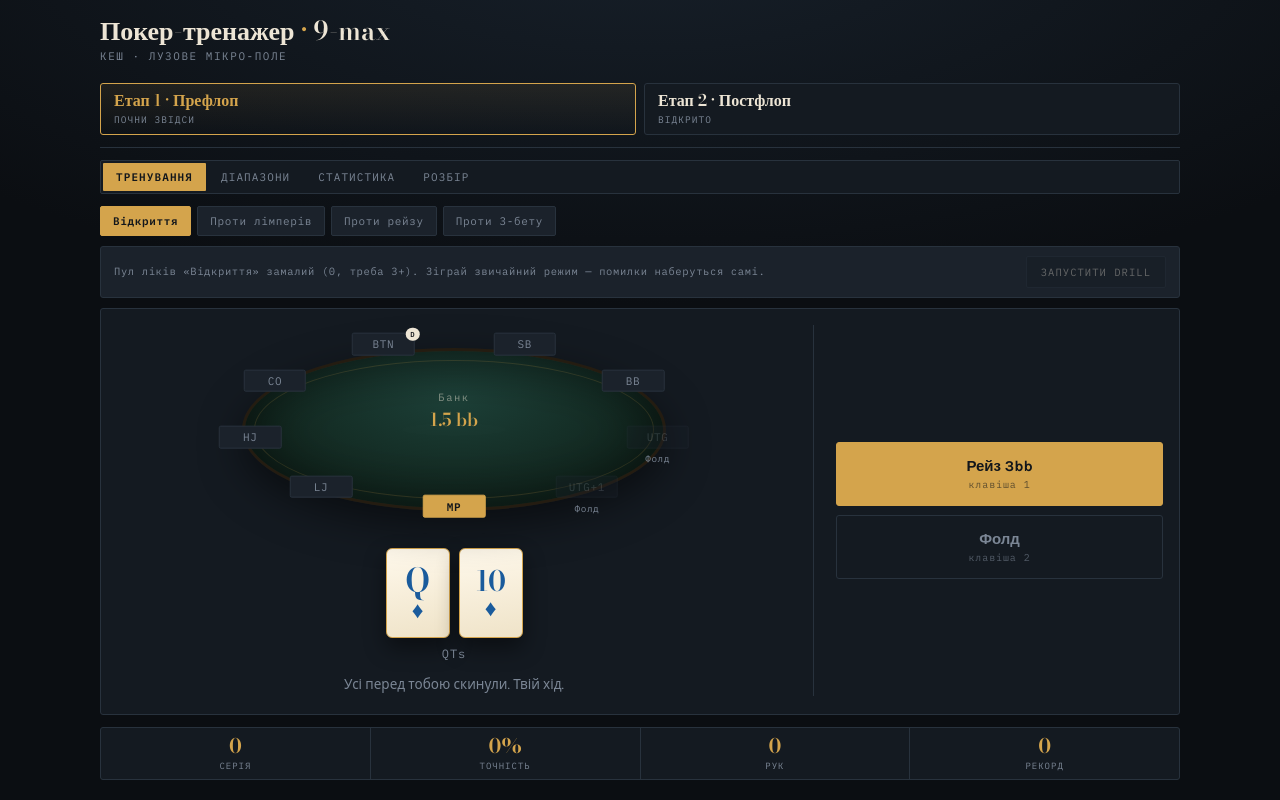
Test: App › вкладка «Схема рішень» показує таблиці замість тренування
Click the button "Етап 2 · Постфлоп відкрито": (725,100) [644,83,1180,135]
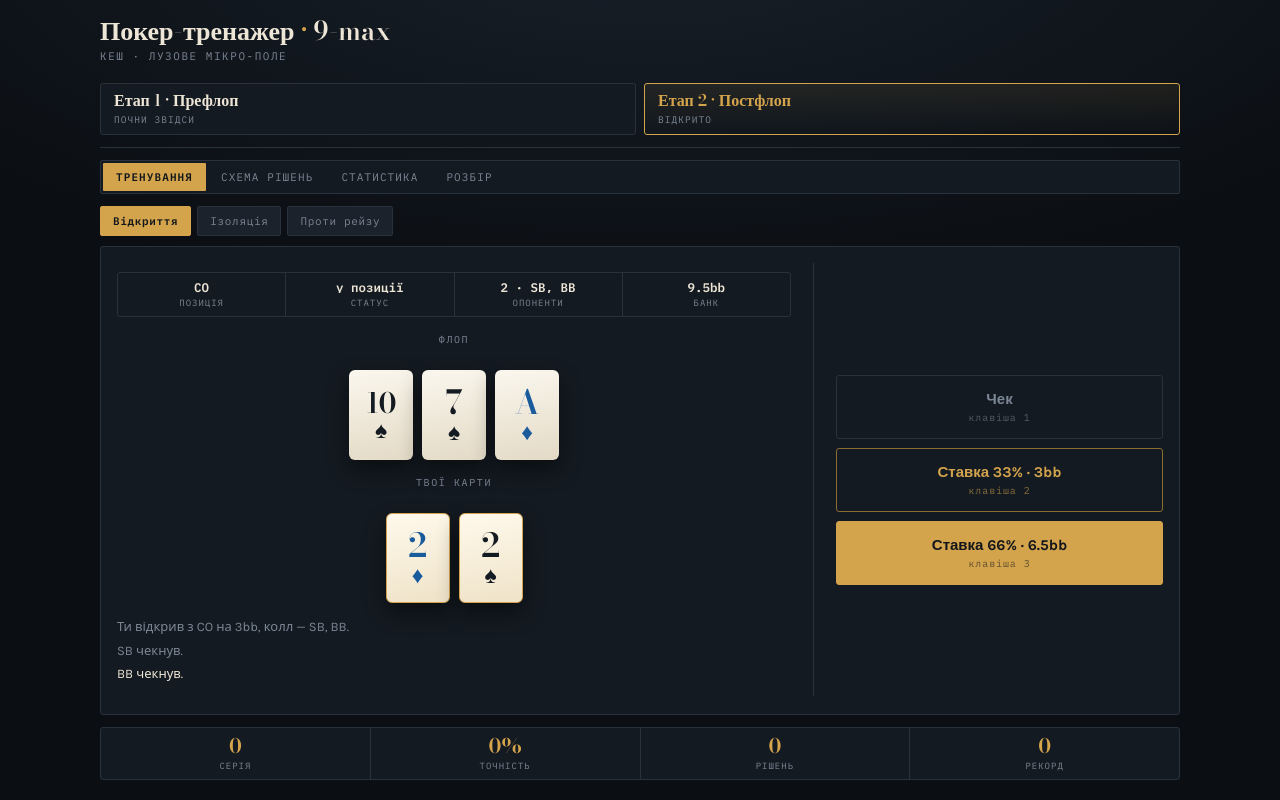
Click the button "Схема рішень": (267,177) [208,163,326,191]
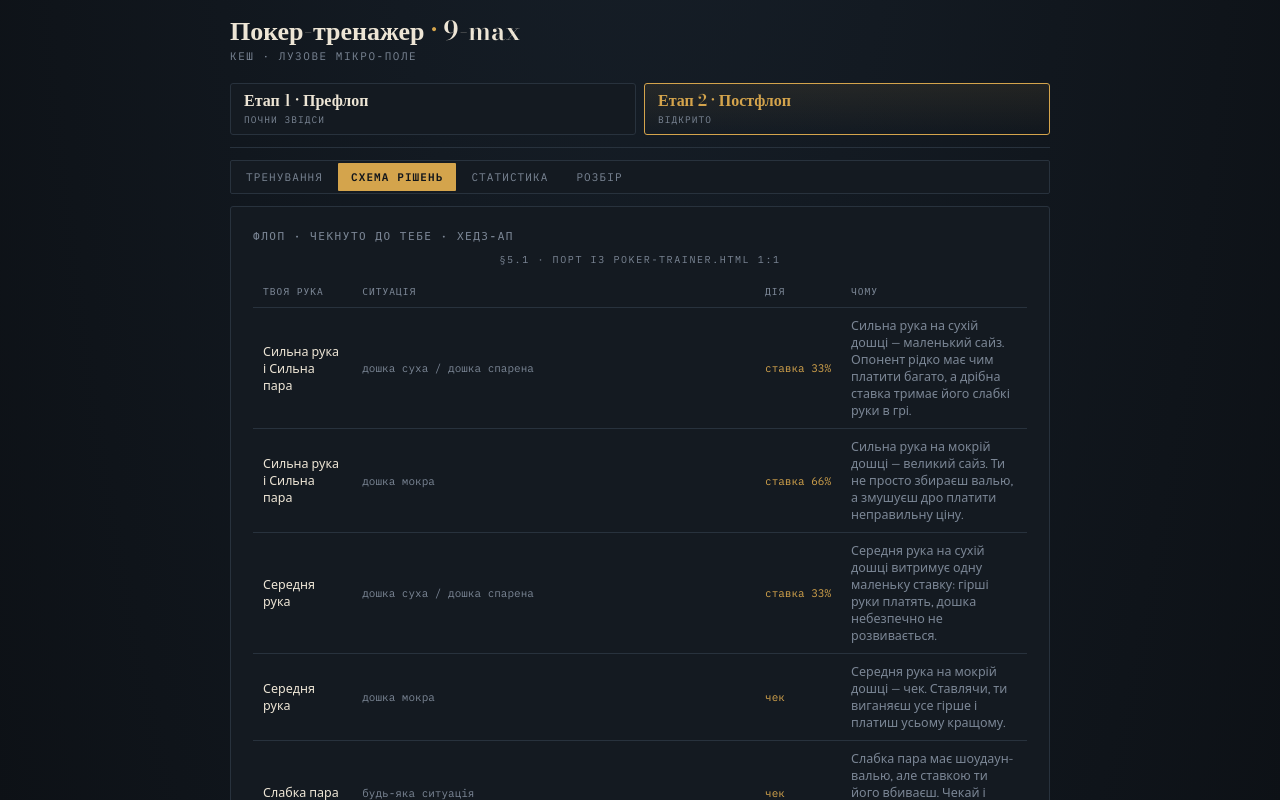
Now the heading "Флоп · чекнуто до тебе · хедз-ап" is shown, box [253,229,514,243]
Now the text "Твої карти" is gone
